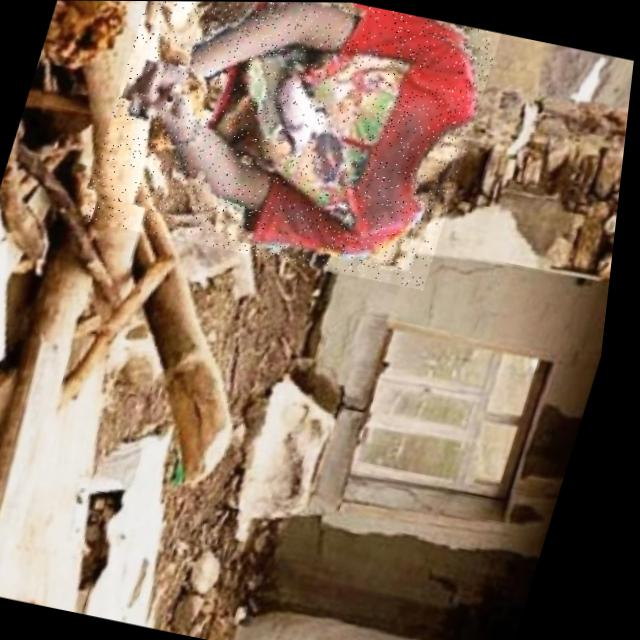Person in Rubble: (78, 1, 503, 290)
